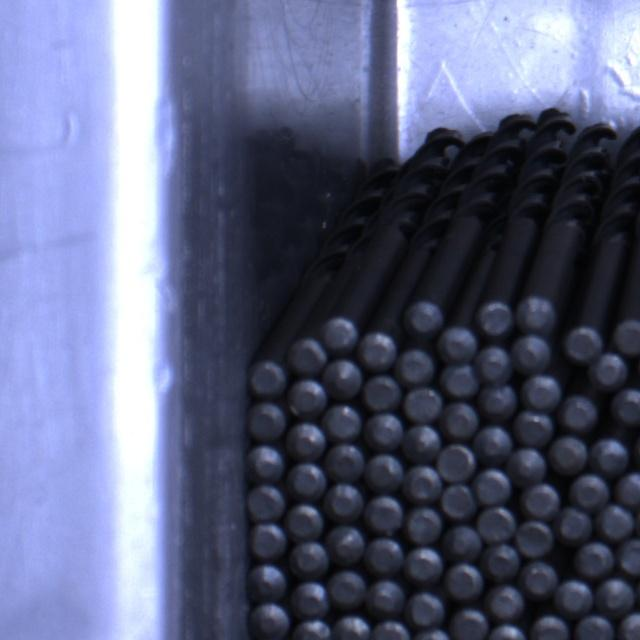tool: (518, 292, 558, 332), (547, 435, 587, 474), (591, 436, 630, 476), (558, 393, 598, 432), (285, 336, 326, 374), (513, 334, 552, 373), (250, 602, 290, 640), (570, 472, 610, 510), (554, 578, 594, 616), (590, 351, 630, 389), (358, 330, 396, 370), (565, 326, 605, 364), (330, 569, 368, 608), (324, 359, 362, 398), (507, 446, 546, 484), (445, 561, 484, 599), (289, 541, 328, 579), (475, 424, 513, 463), (524, 370, 563, 408), (404, 298, 444, 335), (438, 444, 476, 482), (285, 503, 323, 541), (328, 443, 366, 481), (598, 575, 636, 613), (288, 378, 326, 416), (398, 346, 436, 384), (325, 482, 363, 520), (438, 326, 476, 364), (365, 411, 403, 448), (404, 464, 442, 501), (250, 562, 288, 599), (329, 525, 366, 563), (248, 359, 286, 396), (575, 541, 614, 577), (518, 410, 557, 446), (249, 484, 286, 521), (521, 560, 558, 597), (483, 543, 520, 580), (516, 518, 554, 554), (556, 507, 592, 545), (478, 507, 516, 543), (596, 504, 634, 540), (250, 402, 286, 440), (367, 537, 405, 573), (365, 494, 403, 530), (522, 483, 560, 519), (404, 547, 442, 583), (403, 424, 441, 460), (367, 452, 403, 490), (476, 343, 512, 381), (444, 524, 482, 560), (475, 300, 513, 336), (407, 592, 445, 628), (475, 468, 512, 504), (368, 578, 405, 614), (364, 374, 401, 410), (288, 461, 325, 497), (293, 582, 330, 618), (288, 421, 324, 458), (404, 386, 442, 421), (486, 582, 524, 617), (250, 522, 286, 558), (324, 316, 360, 352), (248, 444, 285, 479), (326, 405, 363, 440), (449, 607, 488, 640), (444, 402, 479, 438), (441, 362, 479, 395), (407, 508, 442, 543), (442, 484, 476, 518), (611, 388, 640, 427), (530, 613, 569, 640), (574, 614, 613, 640), (614, 316, 640, 353), (334, 615, 372, 640), (614, 470, 640, 506), (616, 538, 640, 575), (372, 619, 412, 640), (294, 618, 332, 640), (487, 623, 526, 640), (619, 611, 639, 640), (412, 628, 451, 640)
